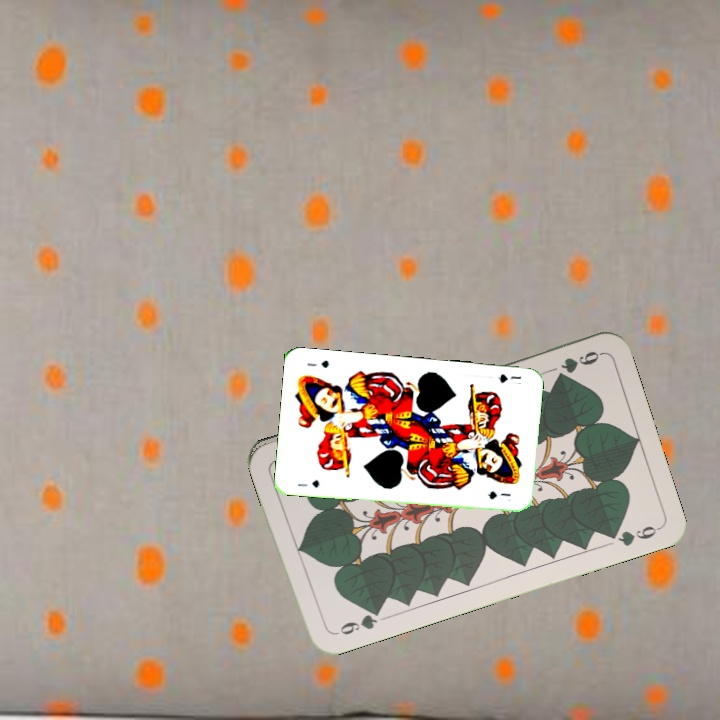G9: (328, 605, 383, 638), (557, 347, 605, 376)
GU: (494, 370, 524, 387), (294, 476, 322, 490)
